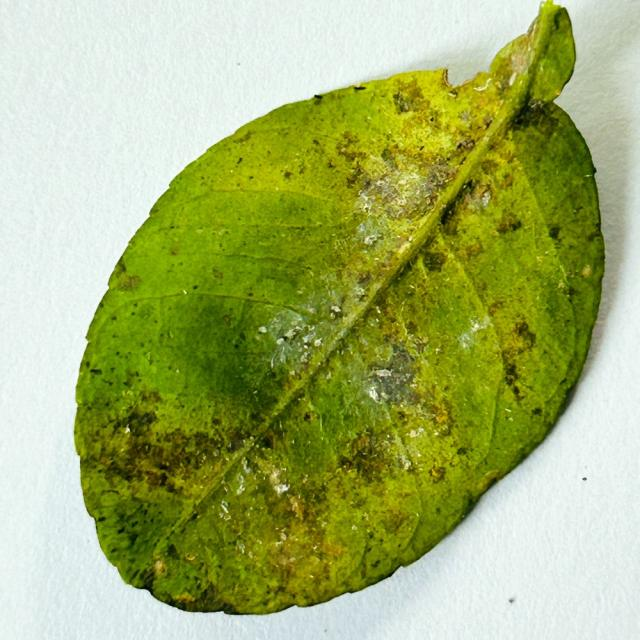Bacterial_Blight: (300, 337, 394, 464), (166, 242, 337, 311), (426, 322, 497, 457), (504, 286, 576, 406), (400, 469, 484, 563), (206, 189, 339, 234), (498, 155, 555, 260), (146, 548, 223, 610), (265, 126, 344, 185), (104, 436, 179, 493), (397, 104, 466, 162), (261, 308, 320, 375), (273, 541, 339, 596), (489, 33, 534, 90), (219, 450, 263, 505), (122, 406, 161, 439), (461, 181, 492, 215), (457, 319, 487, 351), (421, 248, 447, 273), (226, 430, 252, 453), (318, 538, 345, 559), (428, 401, 451, 425), (511, 320, 534, 343), (487, 299, 511, 319), (524, 15, 540, 44), (117, 273, 141, 291), (289, 496, 305, 521), (441, 68, 459, 90), (380, 147, 398, 168), (140, 570, 157, 592), (278, 559, 296, 579), (394, 93, 412, 113), (339, 130, 358, 146), (233, 130, 253, 145), (395, 239, 412, 256), (257, 434, 273, 450), (552, 10, 564, 31), (458, 109, 473, 123), (585, 230, 601, 243), (166, 542, 179, 557), (502, 173, 514, 188), (153, 559, 165, 574), (221, 314, 233, 327), (212, 267, 224, 280), (303, 411, 315, 423), (282, 169, 294, 180), (581, 265, 592, 277), (169, 245, 180, 256), (494, 79, 504, 91), (89, 367, 102, 375), (397, 196, 407, 206), (237, 542, 246, 553), (122, 389, 134, 397), (145, 351, 153, 362), (185, 553, 196, 561), (217, 229, 228, 236), (166, 330, 174, 339), (279, 532, 287, 541), (96, 516, 106, 523), (554, 88, 562, 96), (302, 475, 309, 483), (406, 236, 413, 244), (195, 228, 204, 234), (591, 166, 597, 175), (110, 314, 117, 321), (236, 157, 243, 164), (435, 346, 442, 353), (213, 449, 219, 457), (248, 550, 254, 558), (322, 520, 328, 528), (77, 371, 83, 378), (76, 398, 82, 405), (312, 544, 318, 551), (192, 284, 198, 290), (120, 447, 126, 453), (429, 116, 434, 122), (252, 389, 258, 394), (291, 438, 295, 445), (175, 369, 180, 373), (275, 187, 279, 191)
Lemon: (71, 1, 606, 619)
